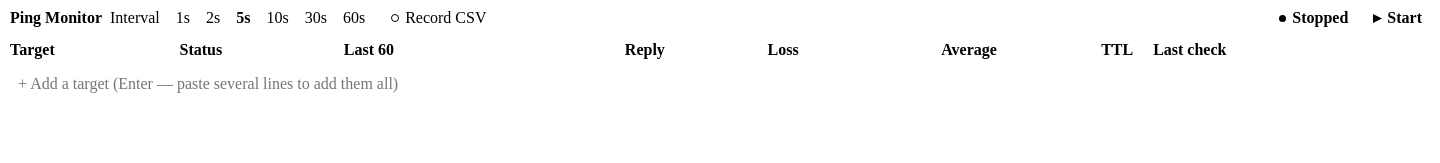
Test case: PingMonitorPane › keeps monitoring without logging and says so when the folder is not approved
This screenshot has width=1440, height=163.
Type "192.0.2.1" into the field labelled "Add a target" at (720, 84), box [10,70,1430,98]
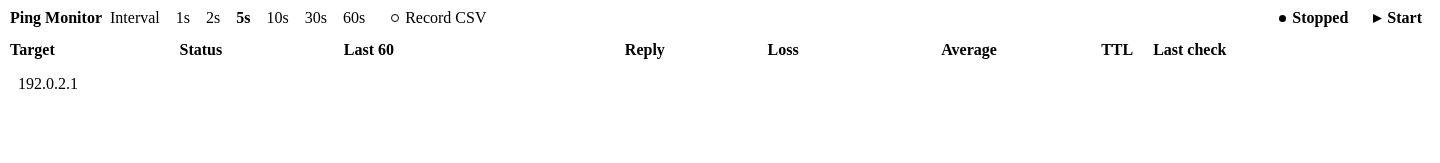
Press Enter in the field named "Add a target", box [10,70,1430,98]
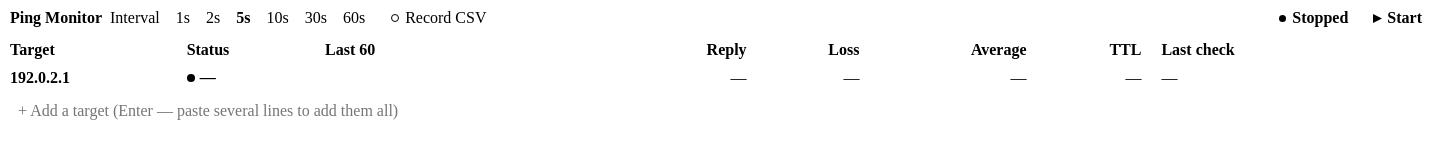
Click the button "Record CSV" at (439, 18), box [381,7,496,29]
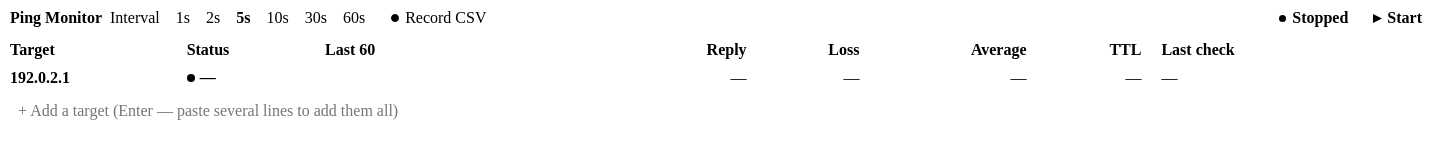
Click the button "Start" at (1398, 18), box [1365,6,1430,30]
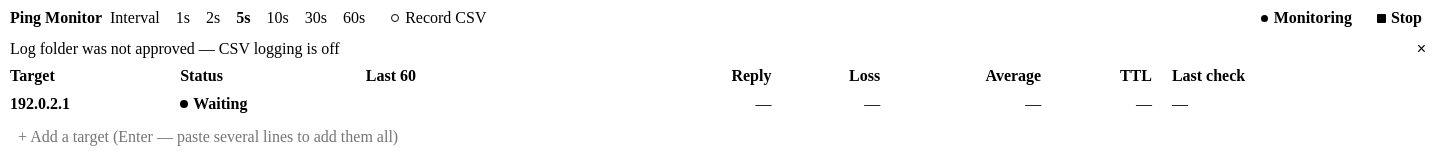
Now the text "Log folder was not approved — CSV logging is off" is shown, box [10,40,340,57]
Now the message "Monitoring" is shown, box [1261,9,1352,26]
